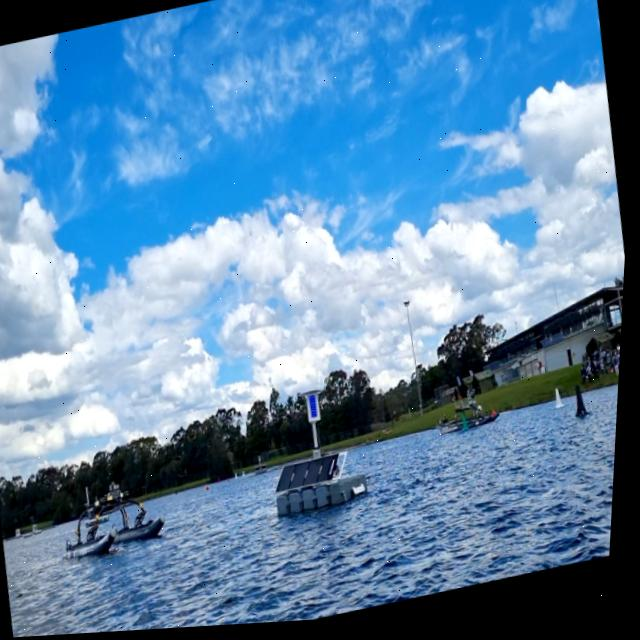led: (311, 397, 325, 424)
